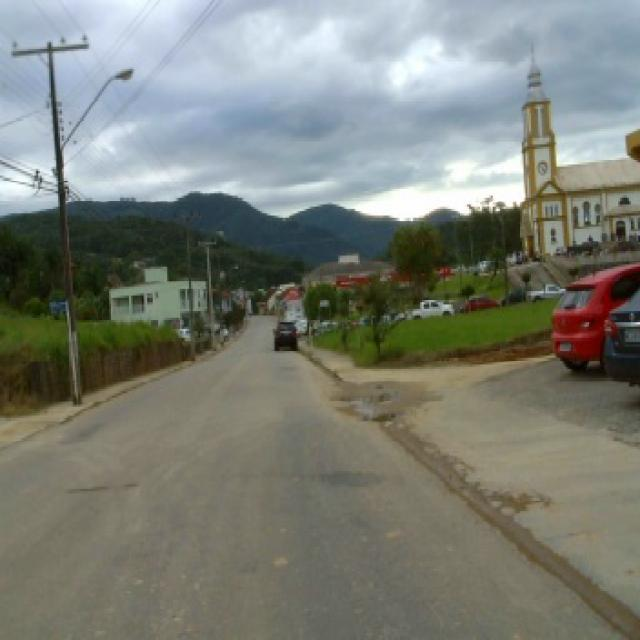Poth-hole: (337, 378, 408, 422), (62, 476, 142, 496)
